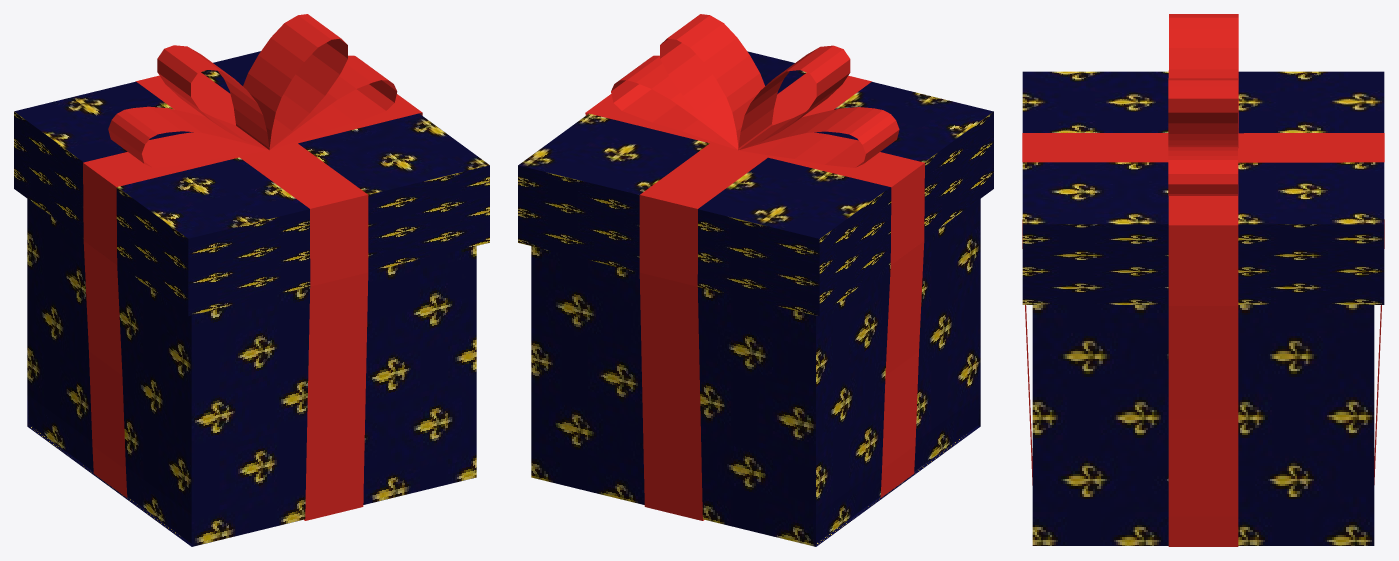
Rendered from box-blue.glb.
3 renders of one model, left to right at view 1: azimuth 30°, elevation 25°; view 2: azimuth 150°, elevation 25°; view 3: azimuth 270°, elevation 25°, orthographic. The views are drawn at different scales.
Parts seen in each view (by area): view 1: Cube, Cube.001, Cube.002, Cube.005, Cube.003, Cube.004; view 2: Cube, Cube.001, Cube.004, Cube.005, Cube.003, Cube.002; view 3: Cube, Cube.001, Cube.003, Cube.002, Cube.004, Cube.005.
Boxes of the visible parts, bbox=[...] form: Cube: bbox=[27, 199, 476, 546]; Cube.001: bbox=[14, 51, 489, 316]; Cube.002: bbox=[237, 142, 368, 520]; Cube.005: bbox=[83, 45, 269, 497]; Cube.003: bbox=[236, 14, 422, 150]; Cube.004: bbox=[136, 72, 235, 125]; Cube: bbox=[531, 199, 980, 546]; Cube.001: bbox=[518, 51, 993, 316]; Cube.004: bbox=[639, 142, 769, 520]; Cube.005: bbox=[738, 45, 924, 497]; Cube.003: bbox=[585, 14, 772, 149]; Cube.002: bbox=[772, 72, 871, 125]; Cube: bbox=[1032, 305, 1374, 545]; Cube.001: bbox=[1022, 71, 1384, 304]; Cube.003: bbox=[1168, 78, 1238, 546]; Cube.002: bbox=[1022, 133, 1168, 485]; Cube.004: bbox=[1238, 133, 1384, 484]; Cube.005: bbox=[1168, 14, 1238, 148].
Size of the model in its own units: 2.15 by 2.76 by 2.12.
2 materials, 1 textured.
